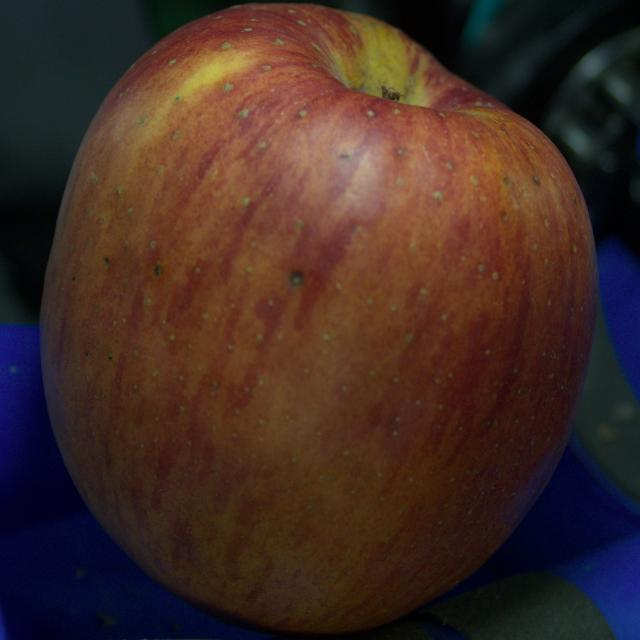apple: (41, 4, 598, 633)
pest: (289, 271, 304, 286), (154, 263, 161, 276), (533, 176, 539, 186), (103, 258, 109, 266), (109, 352, 112, 359)
